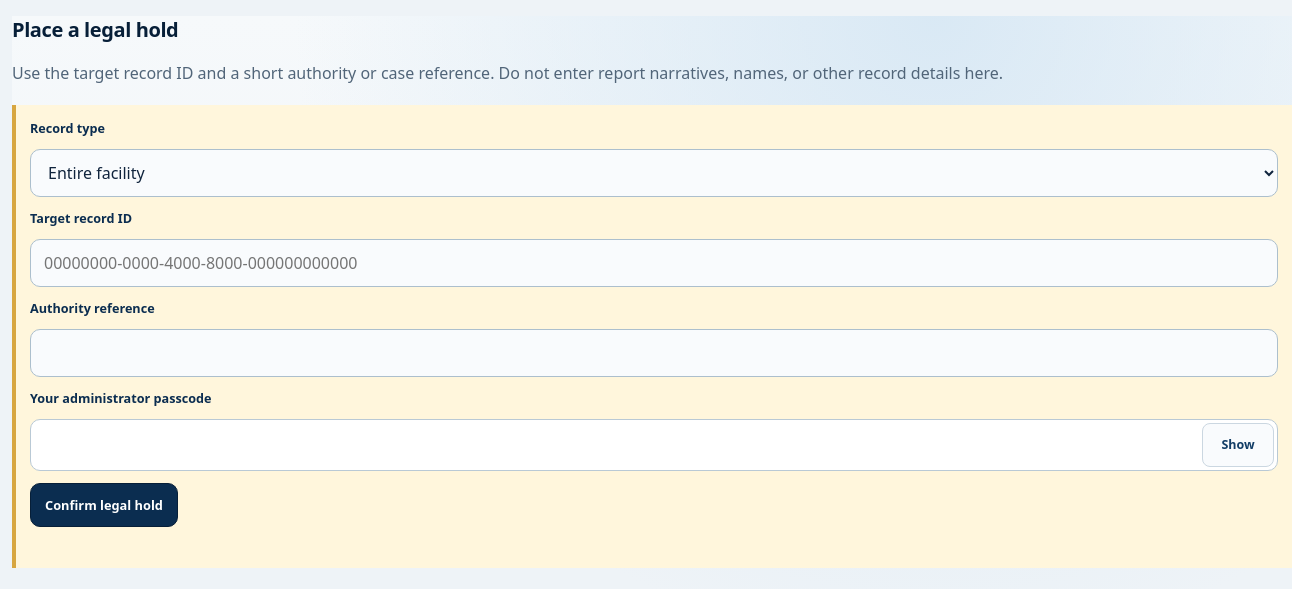
PlaceLegalHoldForm › gets placement-specific approval before creating a hold
Select "Incident" in the dropdown labelled "Record type" at (654,173), box [30,149,1278,197]
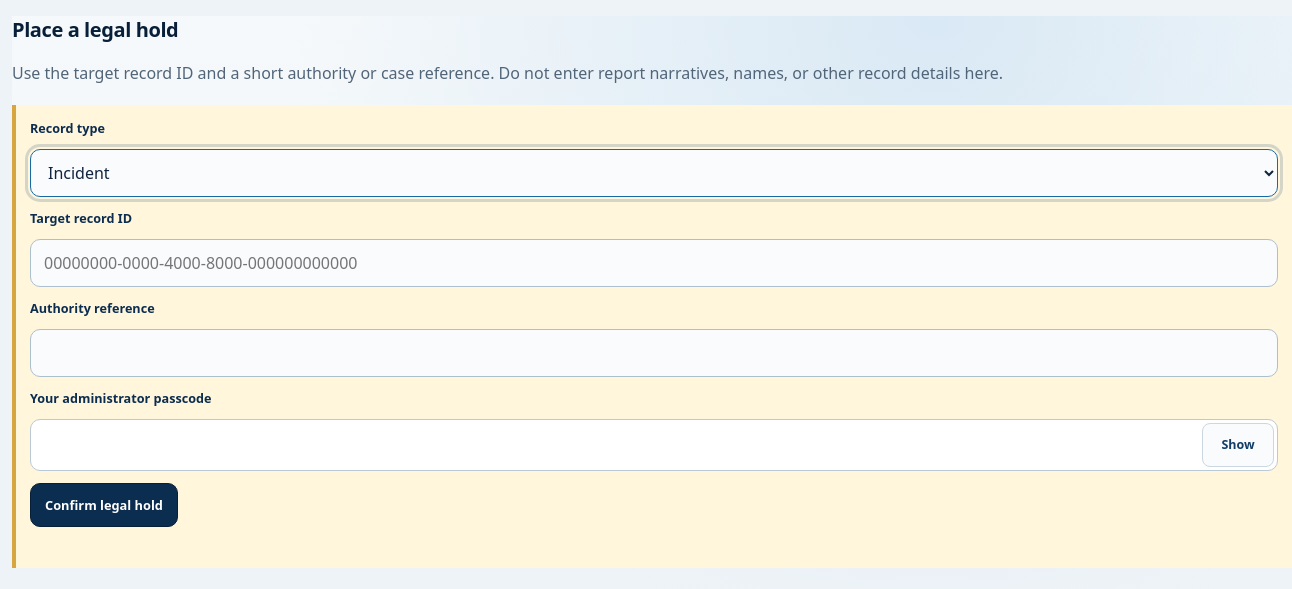
Type "22222222-2222-4222-8222-222222222222" into the field labelled "Target record ID" at (654,263), box [30,239,1278,287]
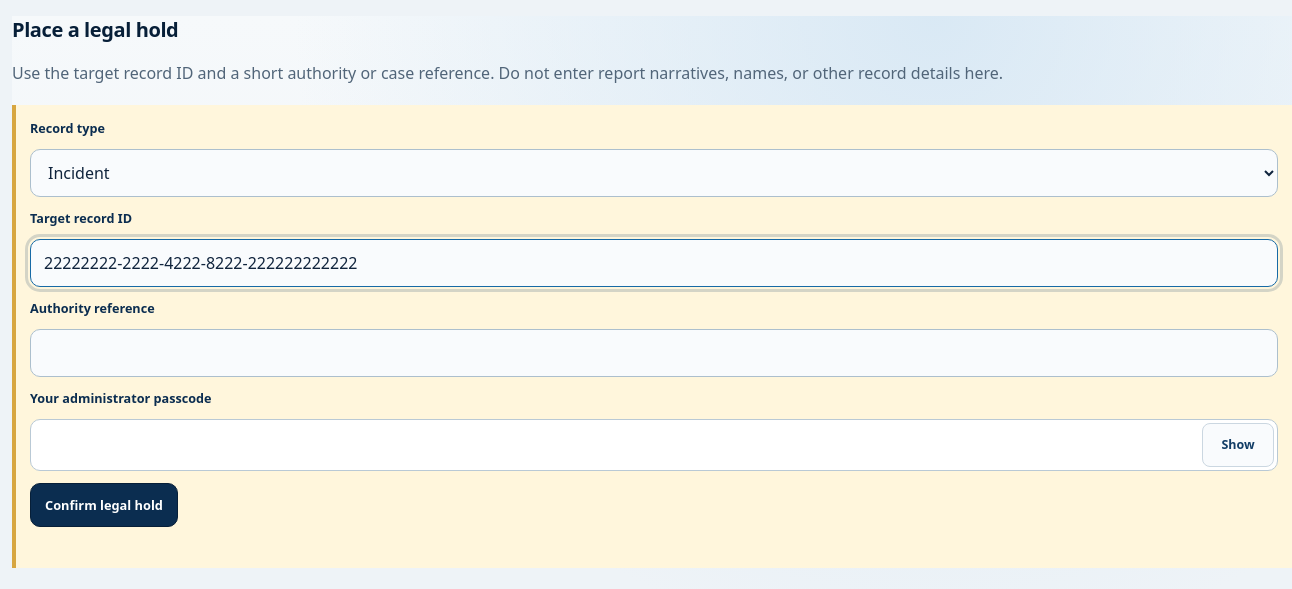
Type "FICTIONAL-HOLD-001" into the field labelled "Authority reference" at (654,353), box [30,329,1278,377]
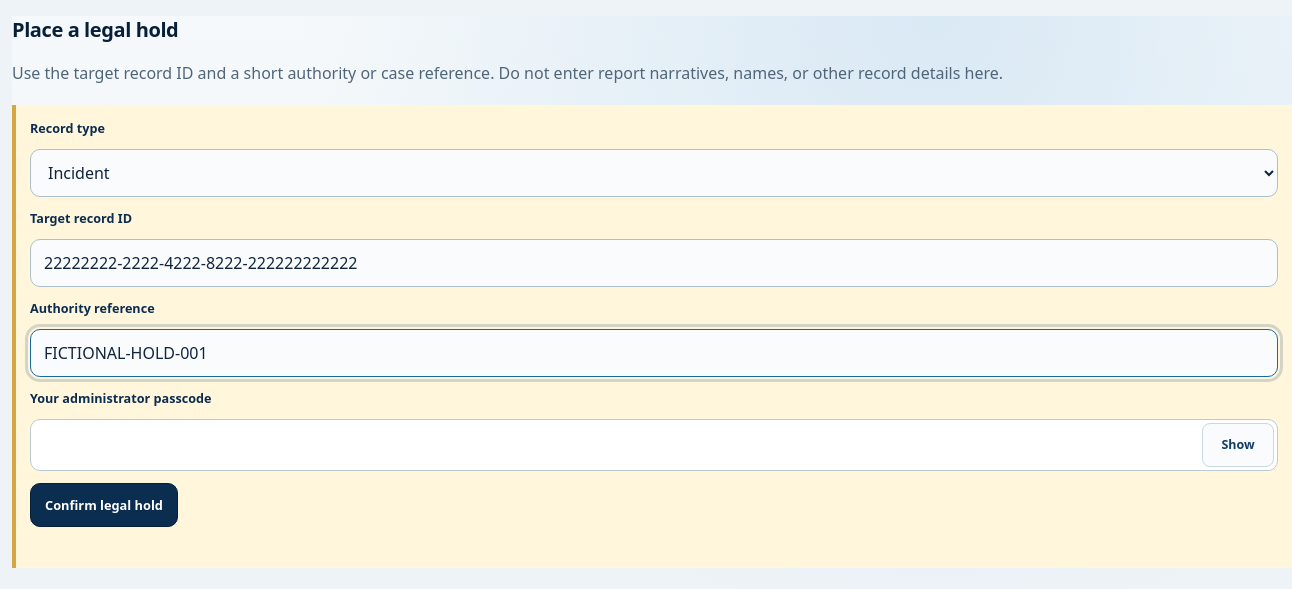
Type "FreshPasscode9!" into the password field labelled "Your administrator passcode" at (654,445), box [30,419,1278,471]
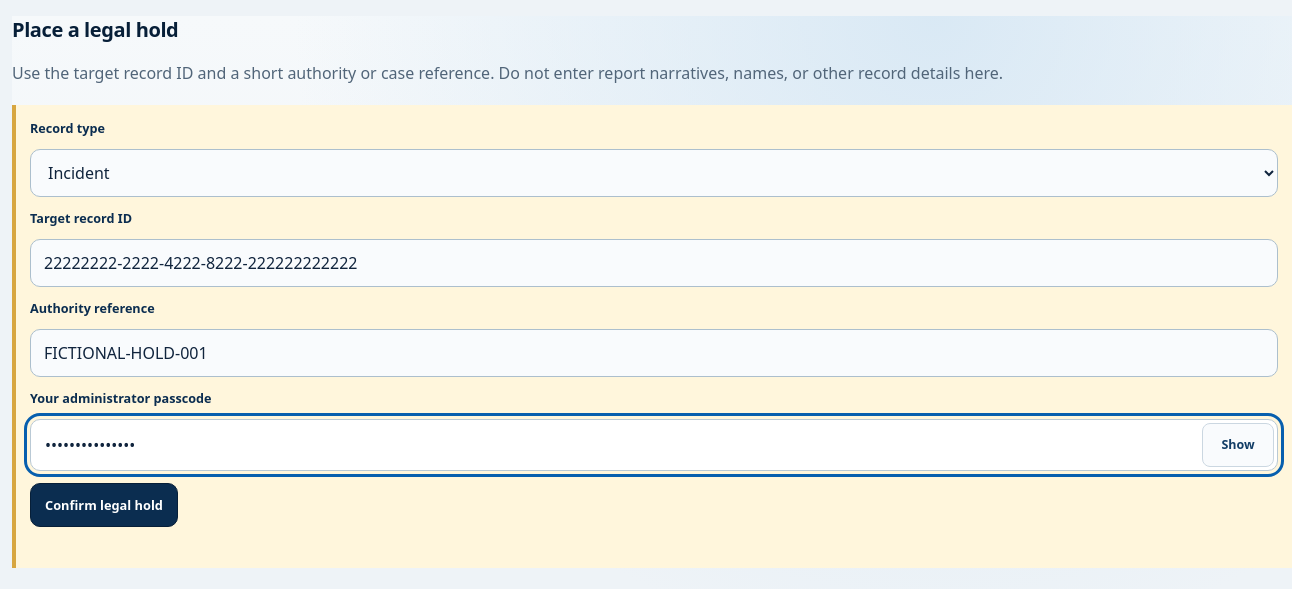
Click the button "Confirm legal hold" at (104,505), box [30,483,178,527]
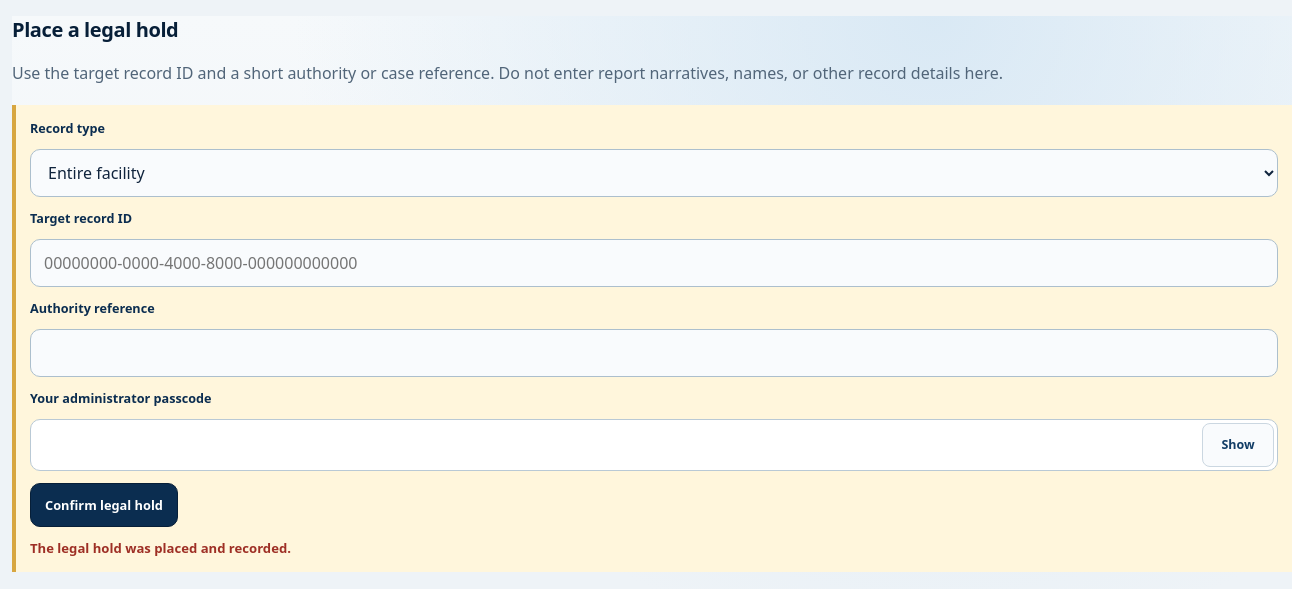
Check: the text "The legal hold was placed and recorded." is shown, box [30,539,291,557]
